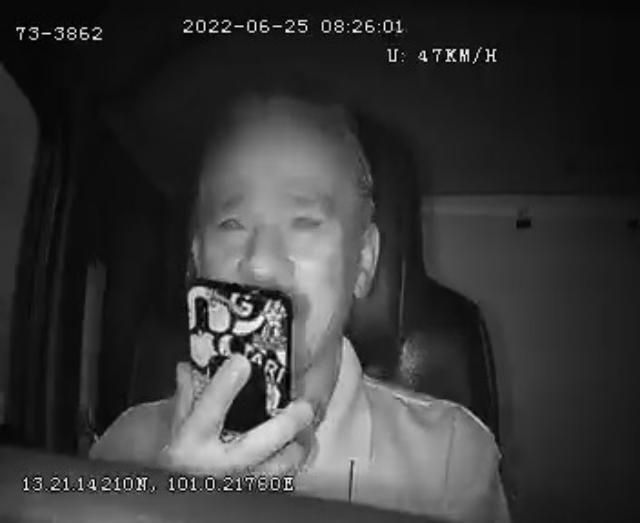PhoneUse: (186, 275, 300, 443)
SafeDriving: (282, 194, 334, 240), (208, 197, 256, 242)
